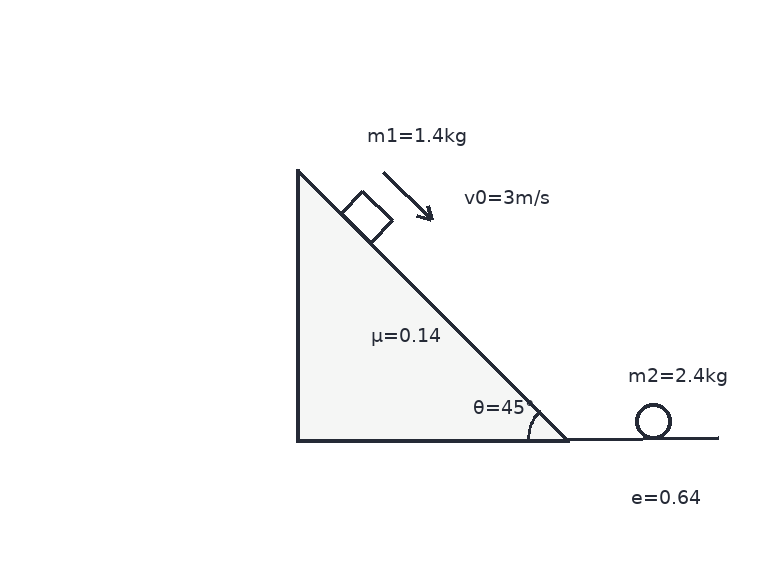ball: (633, 401, 673, 441)
block: (339, 189, 394, 244)
ramp: (295, 166, 570, 441)
